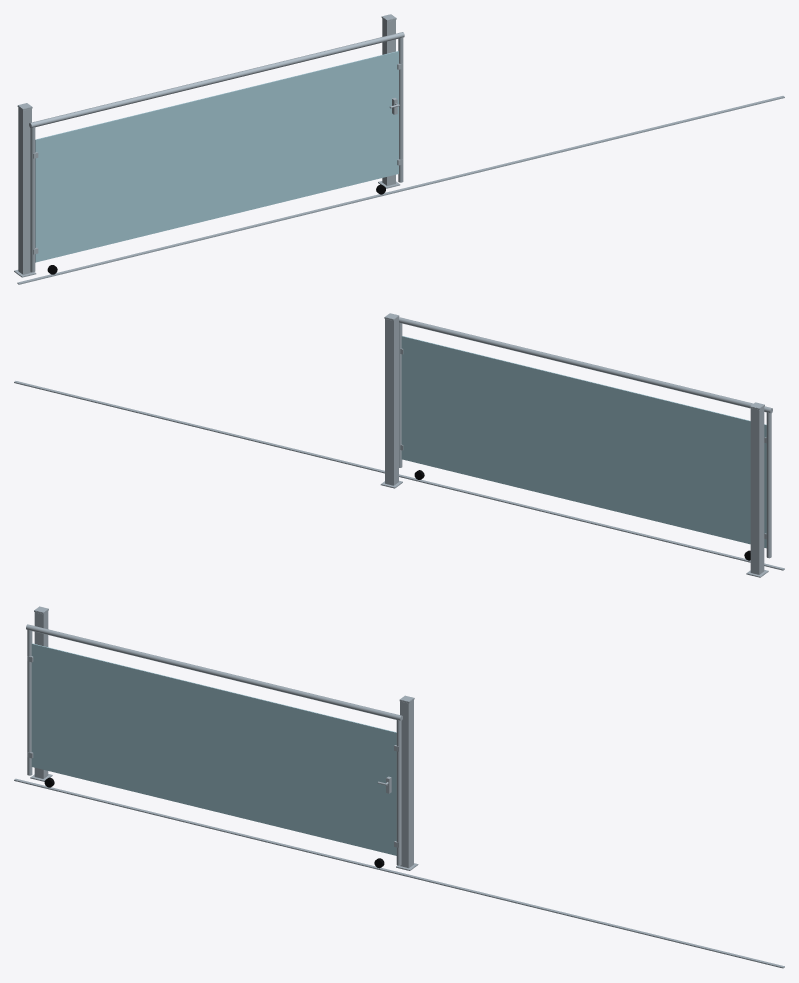
File: 15-klizna.glb
3 renders of one model, top to bottom at view 1: azimuth 30°, elevation 25°; view 2: azimuth 150°, elevation 25°; view 3: azimuth 330°, elevation 25°, orthographic.
Parts seen in each view (by area): view 1: Ispuna_staklo.004, Okov_vodilica_demo.014, Ram_rukohvat.014, Stub_levi.059, Ram_inox_uspravni.028, Ram_inox_uspravni.029, Stub_desni.059; view 2: Ispuna_staklo.004, Okov_vodilica_demo.014, Stub_levi.059, Stub_desni.059, Ram_rukohvat.014, Ram_inox_uspravni.028; view 3: Ispuna_staklo.004, Okov_vodilica_demo.014, Ram_rukohvat.014, Stub_desni.059, Ram_inox_uspravni.029, Ram_inox_uspravni.028.
Boxes of the visible parts, box(x1,y1,x2,y2) form: Ispuna_staklo.004: box(35, 51, 398, 262); Okov_vodilica_demo.014: box(17, 96, 784, 284); Ram_rukohvat.014: box(29, 32, 404, 128); Stub_levi.059: box(18, 107, 31, 274); Ram_inox_uspravni.028: box(30, 127, 35, 272); Ram_inox_uspravni.029: box(398, 37, 403, 182); Stub_desni.059: box(382, 18, 395, 185); Ispuna_staklo.004: box(401, 336, 766, 548); Okov_vodilica_demo.014: box(14, 381, 784, 570); Stub_levi.059: box(750, 407, 764, 574); Stub_desni.059: box(385, 317, 398, 485); Ram_rukohvat.014: box(399, 317, 772, 413); Ram_inox_uspravni.028: box(766, 412, 771, 558); Ispuna_staklo.004: box(31, 643, 396, 855); Okov_vodilica_demo.014: box(14, 778, 784, 968); Ram_rukohvat.014: box(26, 624, 402, 720); Stub_desni.059: box(400, 700, 413, 868); Ram_inox_uspravni.029: box(396, 720, 401, 865); Ram_inox_uspravni.028: box(27, 630, 32, 775).
Bounding box in the file's own units: 8.63 × 1.8 × 0.38.
